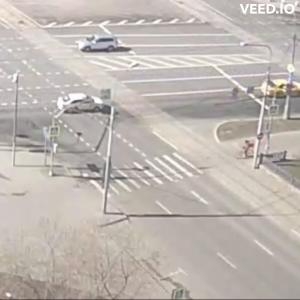car: (57, 95, 107, 113), (263, 78, 300, 98), (79, 37, 120, 53)
